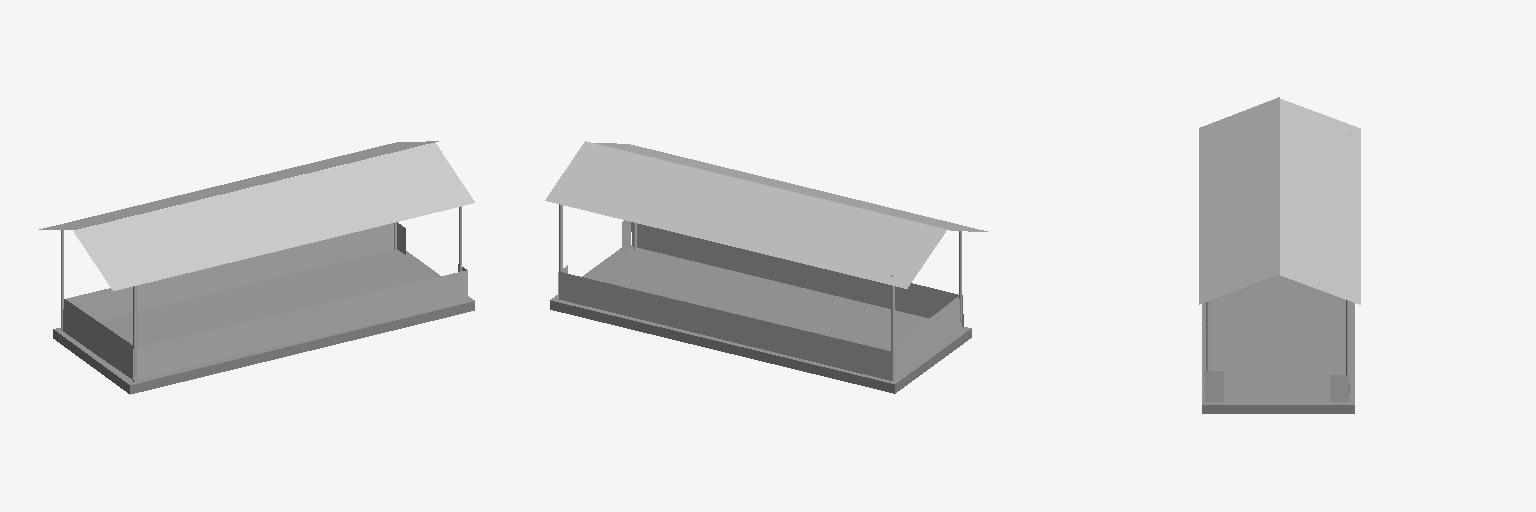
Rendered from momoHouse.obj.
3 views of the same model, side by side, from view 1: azimuth 30°, elevation 25°; view 2: azimuth 150°, elevation 25°; view 3: azimuth 270°, elevation 25° (orthographic).
Visible parts, largest first — view 1: Plane.001, Cube, Plane.002, Plane.003, Plane, Plane.004; view 2: Plane, Cube, Plane.003, Plane.002, Plane.001, Plane.004; view 3: Cube, Plane.001, Plane, Plane.005.
Part boxes in pixels (x1,y1,x2,y2): Plane.001: (73,142,474,290); Cube: (53,249,474,394); Plane.002: (133,270,467,379); Plane.003: (66,223,393,320); Plane: (39,141,438,229); Plane.004: (63,299,132,379); Plane: (545,141,947,288); Cube: (550,245,971,393); Plane.003: (559,272,891,380); Plane.002: (631,222,963,326); Plane.001: (595,143,987,231); Plane.004: (895,296,960,378); Cube: (1202,274,1354,413); Plane.001: (1199,97,1279,304); Plane: (1280,99,1360,304); Plane.005: (1204,371,1223,401).
Bounding box in the file's own units: 9.66 × 3.54 × 3.68.